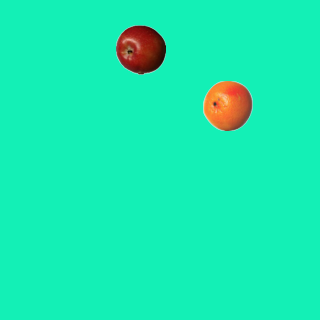Apple Braeburn: (115, 24, 165, 74)
Grapefruit Pink: (202, 80, 252, 130)
